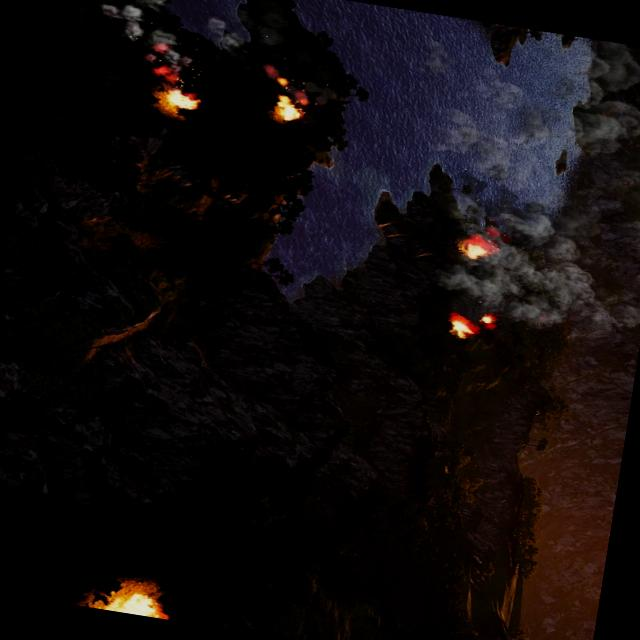fire: (94, 584, 170, 620), (150, 86, 202, 118), (457, 230, 497, 262), (270, 94, 304, 124), (446, 314, 479, 338), (476, 309, 496, 334)
smoke: (403, 16, 640, 347), (56, 0, 208, 85), (202, 16, 247, 54)
